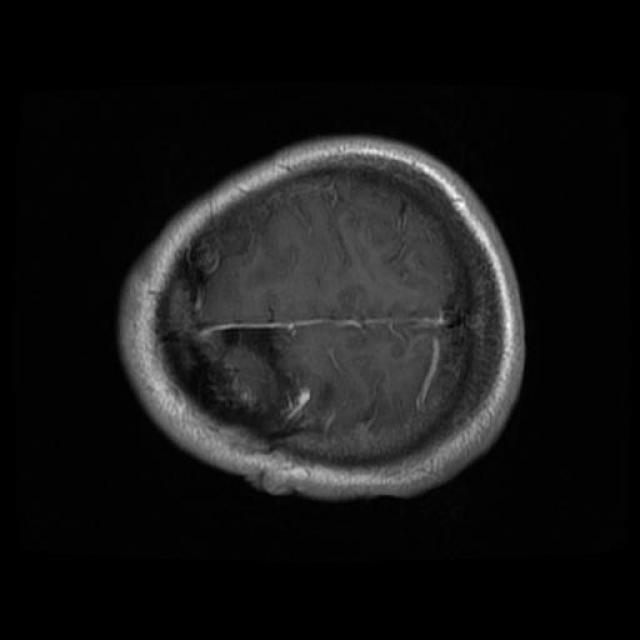Glioma: (172, 329, 308, 435)
